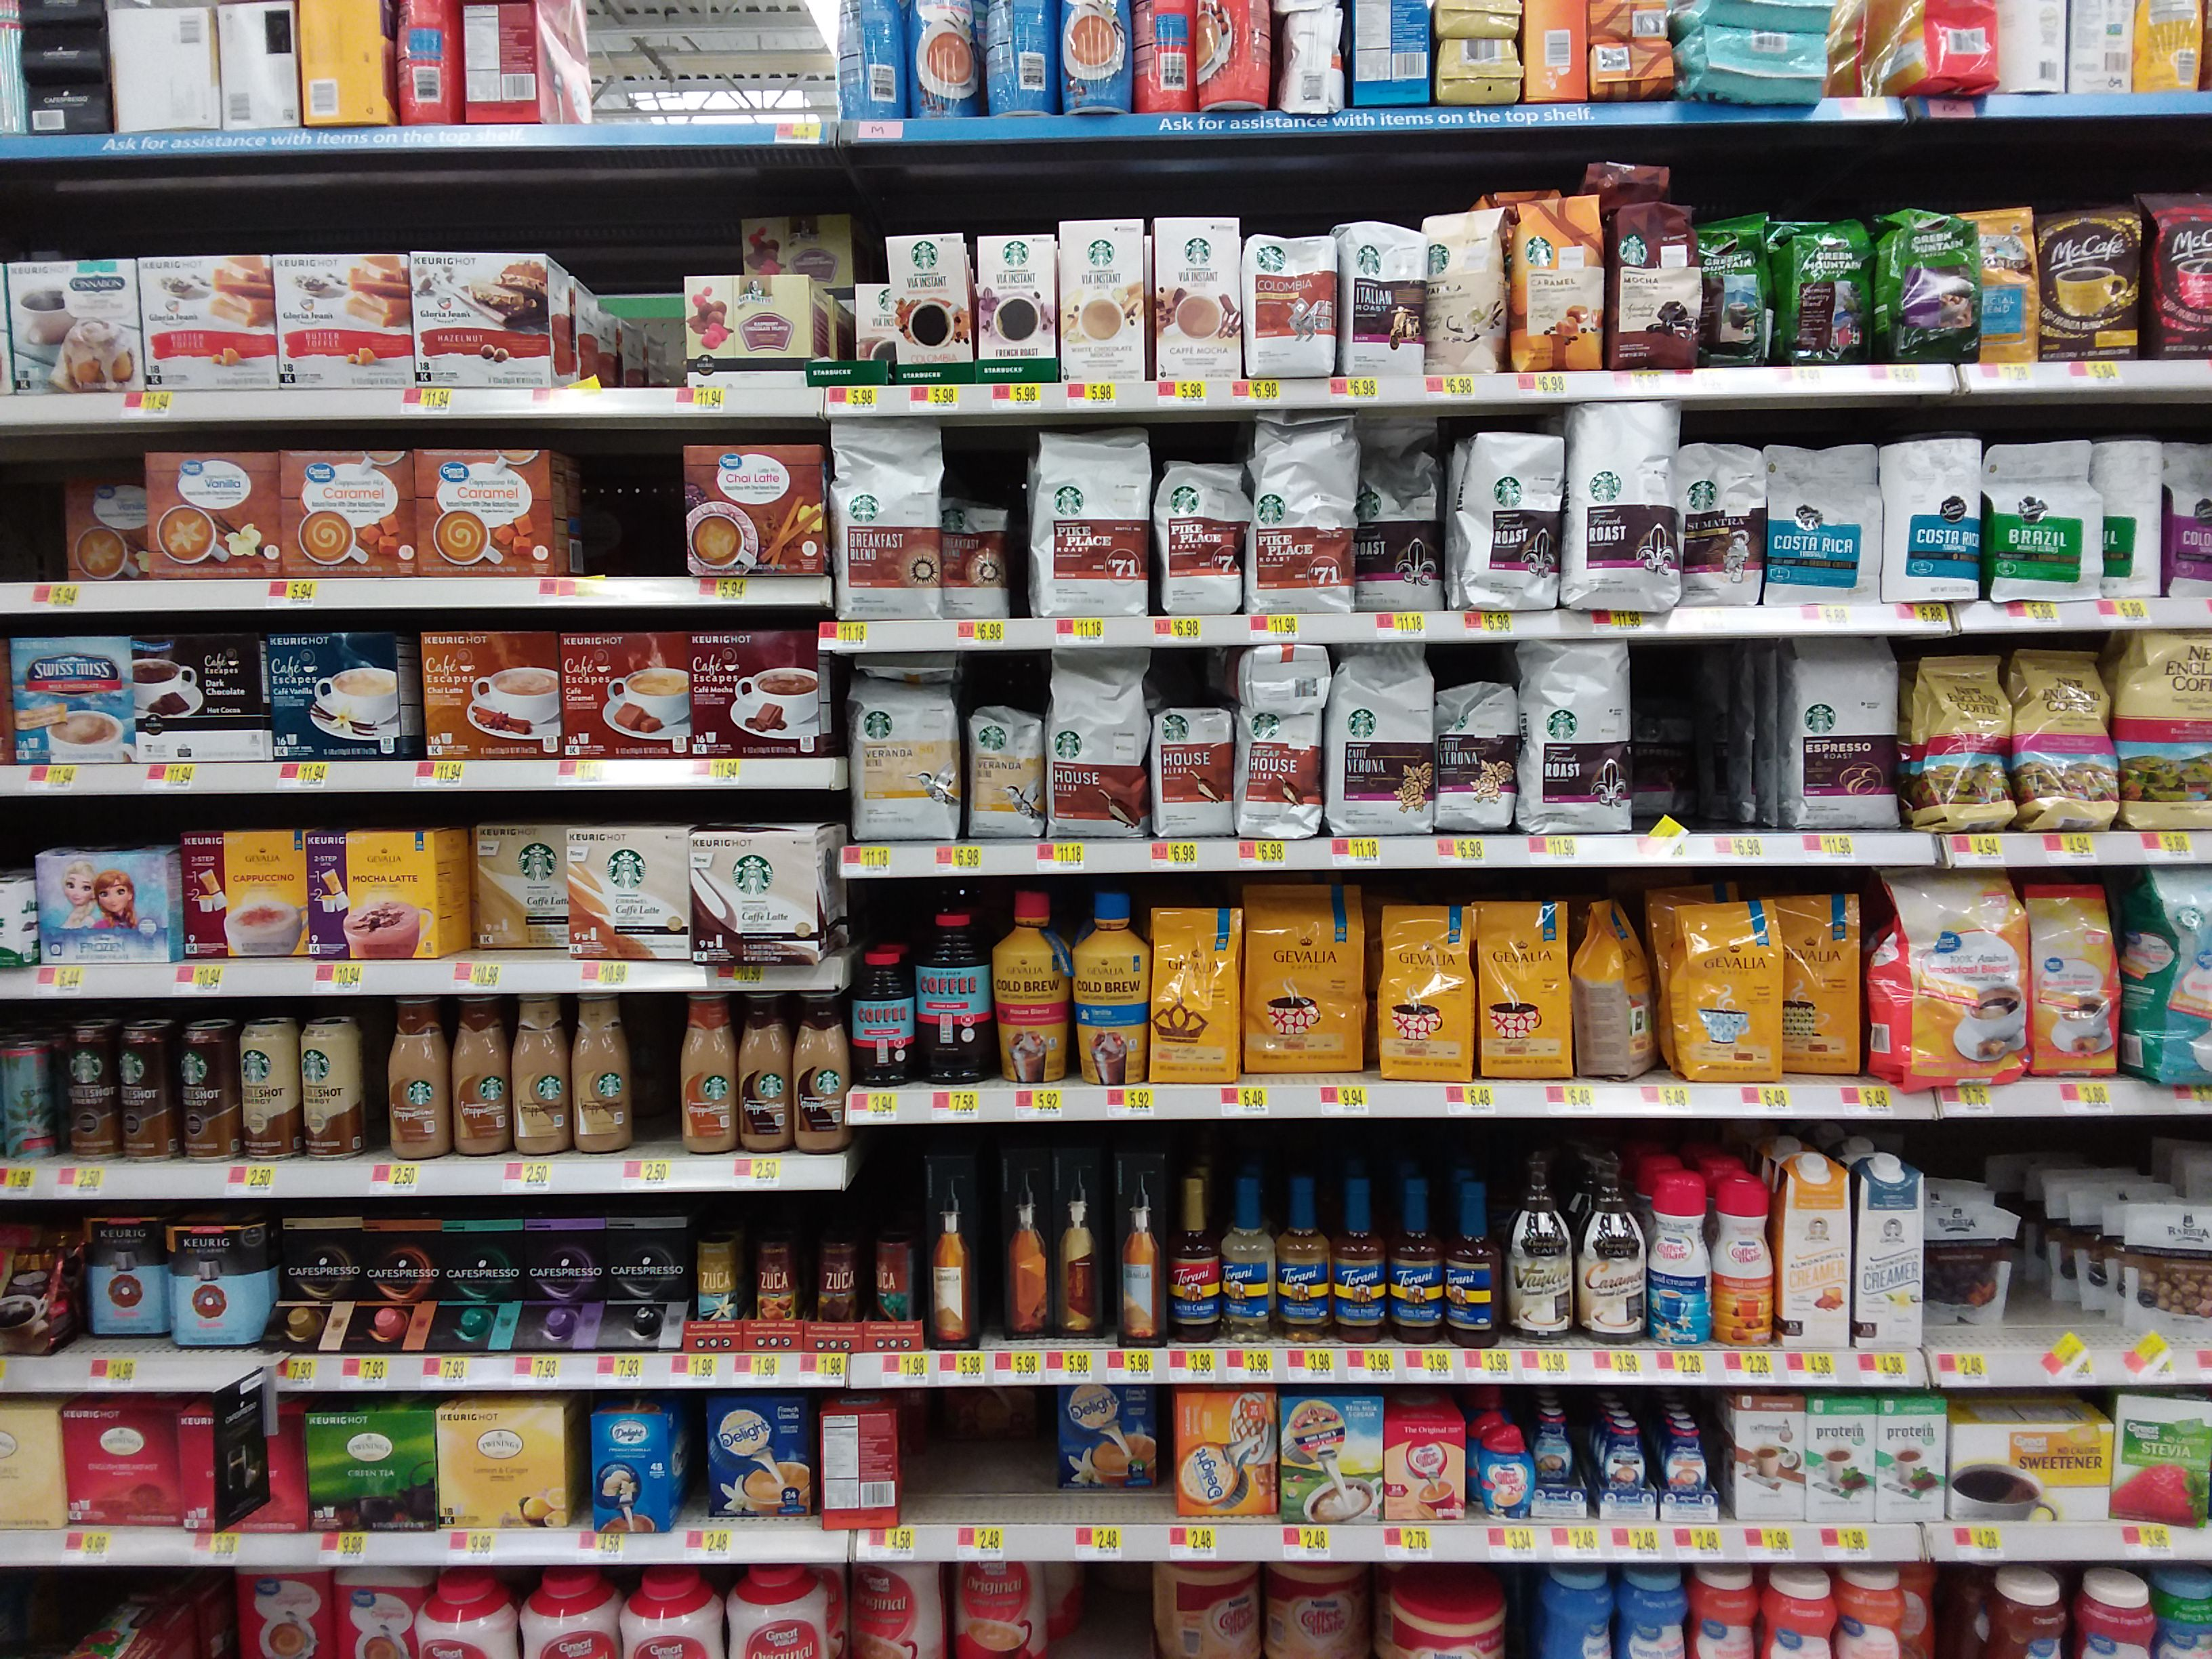Misplacement: (1055, 1382, 1158, 1525)
Out-of-stock: (622, 446, 683, 577)
